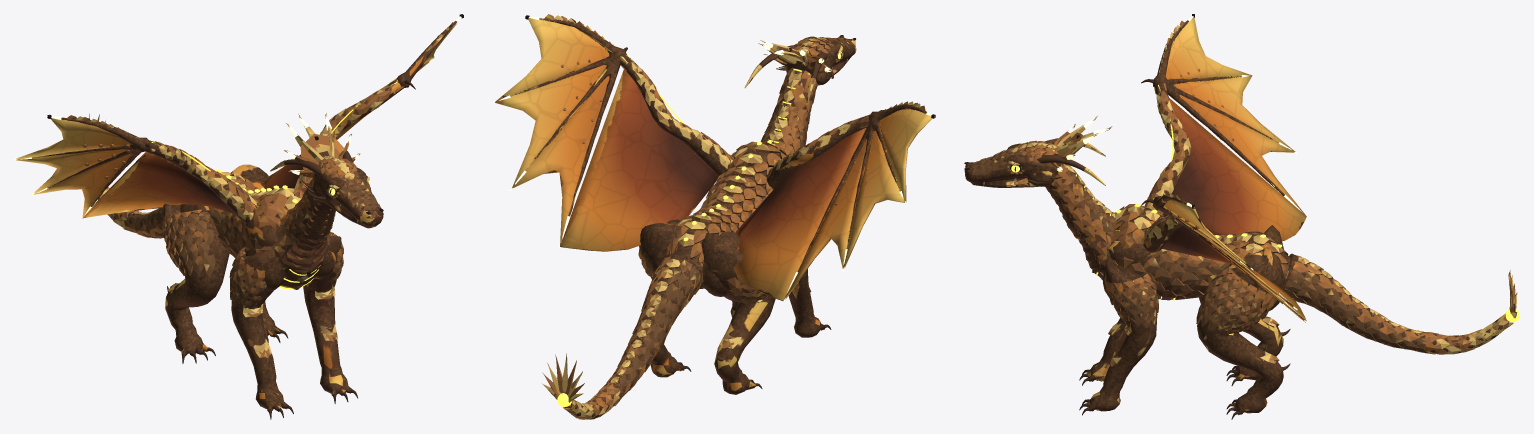
Rendered from SunscaleDragon.fbx.
The picture shows the model from 3 angles, left to right: view 1: azimuth 30°, elevation 25°; view 2: azimuth 150°, elevation 25°; view 3: azimuth 270°, elevation 25°; orthographic projection. The views are drawn at different scales.
Parts seen in each view (by area): view 1: SunscaleDragon_WingR, SunscaleDragon_LegBR, SunscaleDragon_WingR2, SunscaleDragon_Body, SunscaleDragon_Head, SunscaleDragon_LegFR, SunscaleDragon_LegFL, SunscaleDragon_Neck, SunscaleDragon_WingL, SunscaleDragon_Tail, SunscaleDragon_WingL2, SunscaleDragon_LegBL; view 2: SunscaleDragon_WingL, SunscaleDragon_WingL2, SunscaleDragon_WingR, SunscaleDragon_WingR2, SunscaleDragon_Body, SunscaleDragon_Tail, SunscaleDragon_LegBR, SunscaleDragon_Head, SunscaleDragon_Neck, SunscaleDragon_Tail2, SunscaleDragon_LegBL, SunscaleDragon_LegFR; view 3: SunscaleDragon_WingR, SunscaleDragon_WingR2, SunscaleDragon_LegBL, SunscaleDragon_Body, SunscaleDragon_LegFL, SunscaleDragon_Tail, SunscaleDragon_Head, SunscaleDragon_Neck, SunscaleDragon_WingL, SunscaleDragon_WingL2, SunscaleDragon_Tail2, SunscaleDragon_LegBR (+1 smaller).
Boxes of the visible parts, x1=… form: SunscaleDragon_WingR: x1=82, y1=140, x2=258, y2=224; SunscaleDragon_LegBR: x1=162, y1=203, x2=229, y2=363; SunscaleDragon_WingR2: x1=16, y1=115, x2=151, y2=217; SunscaleDragon_Body: x1=180, y1=172, x2=335, y2=290; SunscaleDragon_Head: x1=270, y1=113, x2=383, y2=228; SunscaleDragon_LegFR: x1=229, y1=247, x2=293, y2=419; SunscaleDragon_LegFL: x1=303, y1=231, x2=357, y2=403; SunscaleDragon_Neck: x1=274, y1=178, x2=335, y2=270; SunscaleDragon_WingL: x1=263, y1=78, x2=404, y2=192; SunscaleDragon_Tail: x1=121, y1=208, x2=163, y2=238; SunscaleDragon_WingL2: x1=340, y1=21, x2=456, y2=137; SunscaleDragon_LegBL: x1=230, y1=164, x2=288, y2=342; SunscaleDragon_WingL: x1=560, y1=54, x2=733, y2=251; SunscaleDragon_WingL2: x1=495, y1=14, x2=627, y2=244; SunscaleDragon_WingR: x1=733, y1=114, x2=869, y2=300; SunscaleDragon_WingR2: x1=784, y1=101, x2=932, y2=299; SunscaleDragon_Body: x1=650, y1=141, x2=786, y2=296; SunscaleDragon_Tail: x1=606, y1=254, x2=702, y2=405; SunscaleDragon_LegBR: x1=701, y1=233, x2=775, y2=394; SunscaleDragon_Head: x1=744, y1=35, x2=856, y2=103; SunscaleDragon_Neck: x1=760, y1=67, x2=817, y2=154; SunscaleDragon_Tail2: x1=541, y1=353, x2=620, y2=419; SunscaleDragon_LegBL: x1=638, y1=223, x2=691, y2=377; SunscaleDragon_LegFR: x1=788, y1=269, x2=831, y2=337; SunscaleDragon_WingR: x1=1144, y1=82, x2=1306, y2=241; SunscaleDragon_WingR2: x1=1141, y1=16, x2=1305, y2=214; SunscaleDragon_LegBL: x1=1196, y1=248, x2=1290, y2=419; SunscaleDragon_Body: x1=1093, y1=204, x2=1290, y2=310; SunscaleDragon_LegFL: x1=1079, y1=259, x2=1158, y2=415; SunscaleDragon_Tail: x1=1285, y1=253, x2=1429, y2=353; SunscaleDragon_Head: x1=964, y1=116, x2=1112, y2=187; SunscaleDragon_Neck: x1=1044, y1=164, x2=1116, y2=270; SunscaleDragon_WingL: x1=1141, y1=210, x2=1306, y2=322; SunscaleDragon_WingL2: x1=1141, y1=192, x2=1305, y2=321; SunscaleDragon_Tail2: x1=1420, y1=270, x2=1517, y2=354; SunscaleDragon_LegBR: x1=1199, y1=225, x2=1290, y2=385.
Bounding box in the file's own units: 3.14 × 2.16 × 3.79.
Materials: 9 (1 with a texture image).
